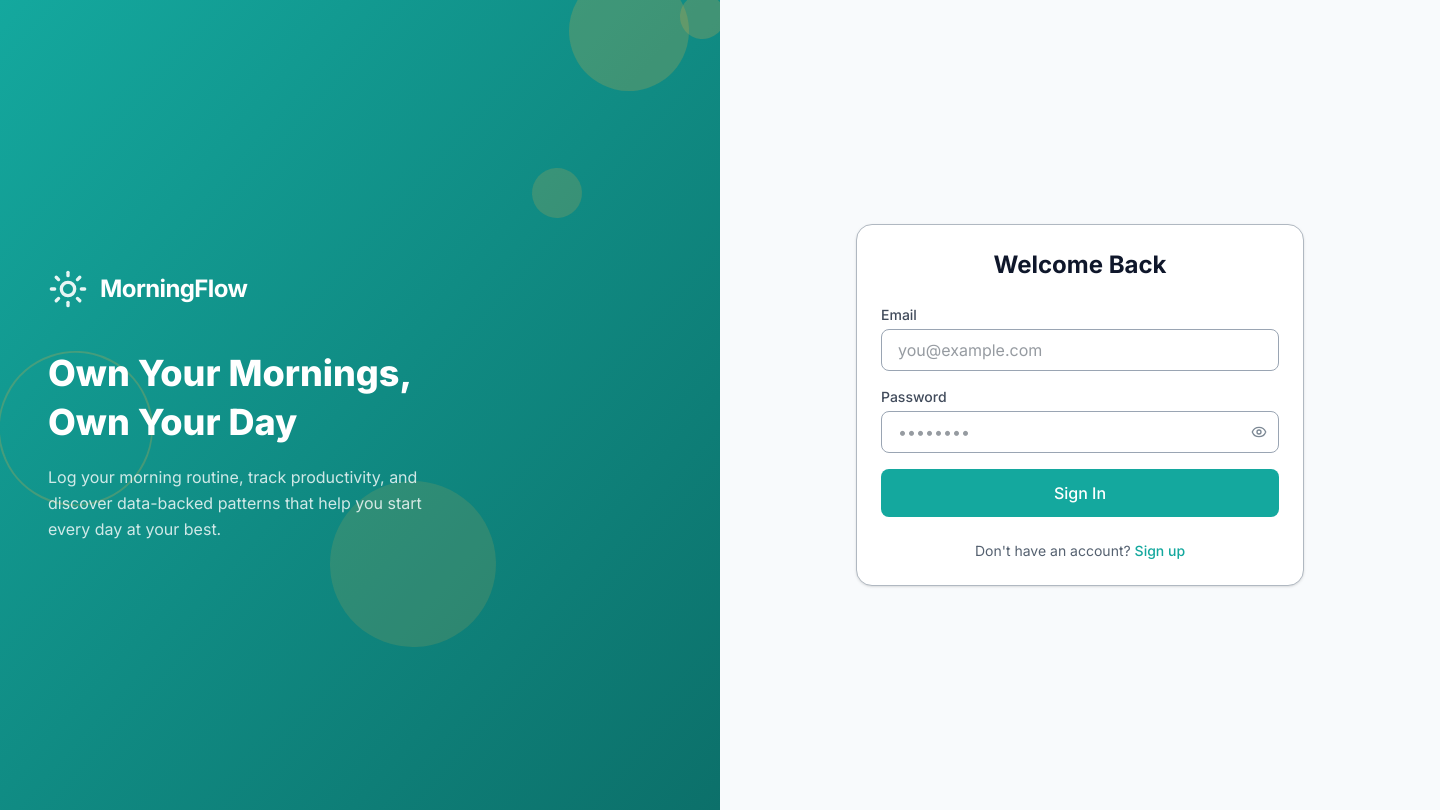
Test: LoginPage — form submission › shows loading text while the request is in flight
Type "me@example.com" into the field labelled "Email".
click(1080, 350); type("me@example.com")  # box x1=881 y1=329 x2=1279 y2=371
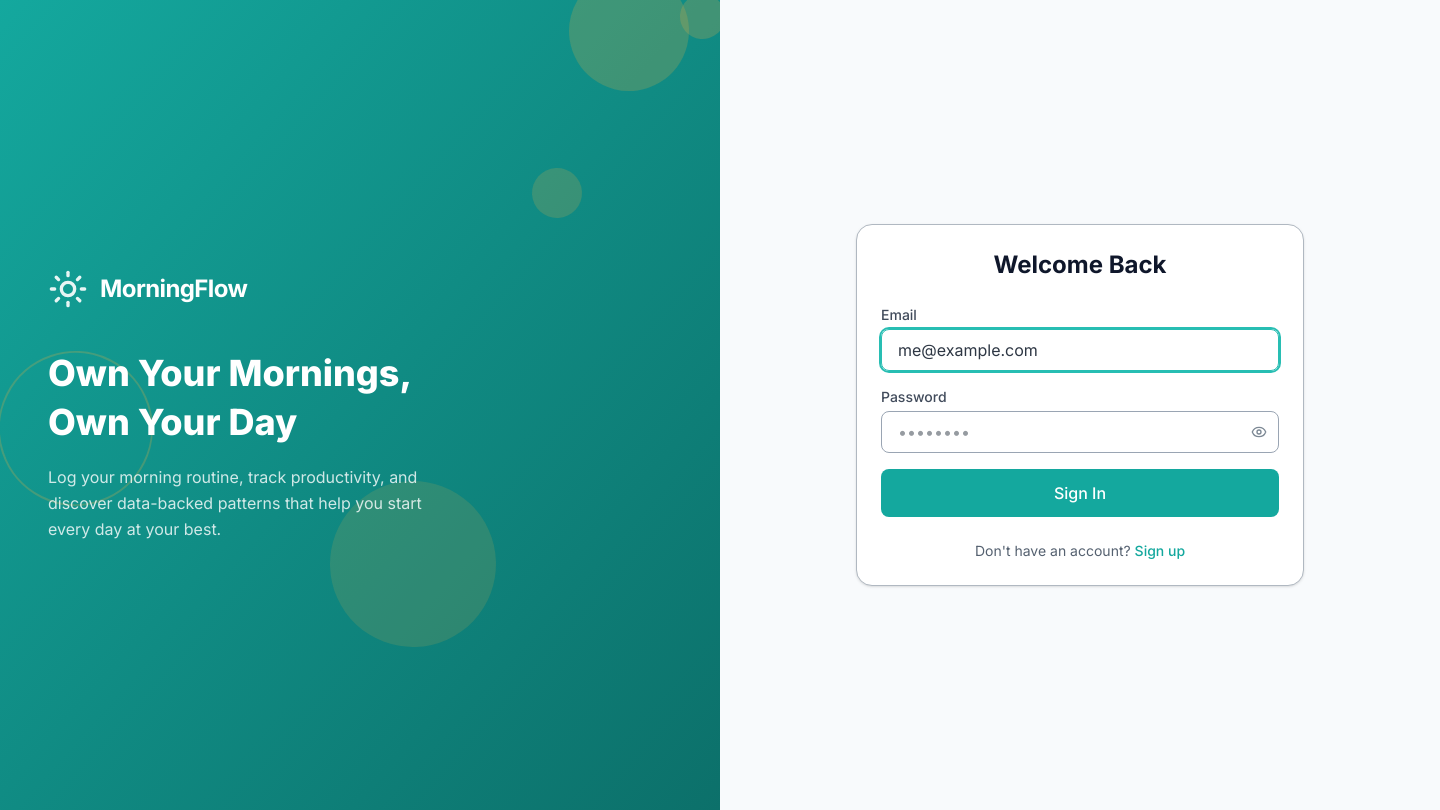
Type "secret123" into the password field labelled "Password".
click(1080, 432); type("secret123")  # box x1=881 y1=411 x2=1279 y2=453
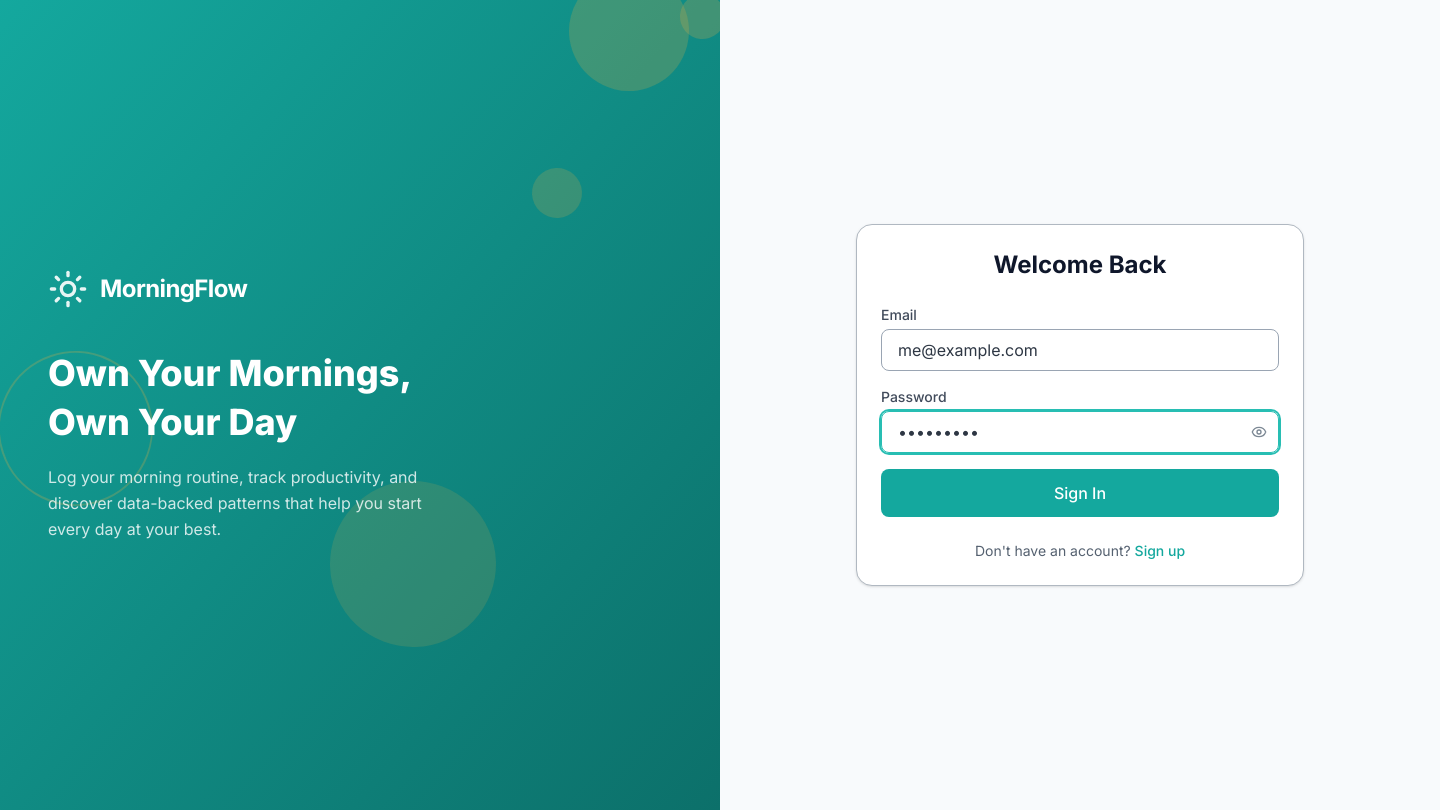
Click the button "Sign In".
click(1080, 493)  # box x1=881 y1=469 x2=1279 y2=517
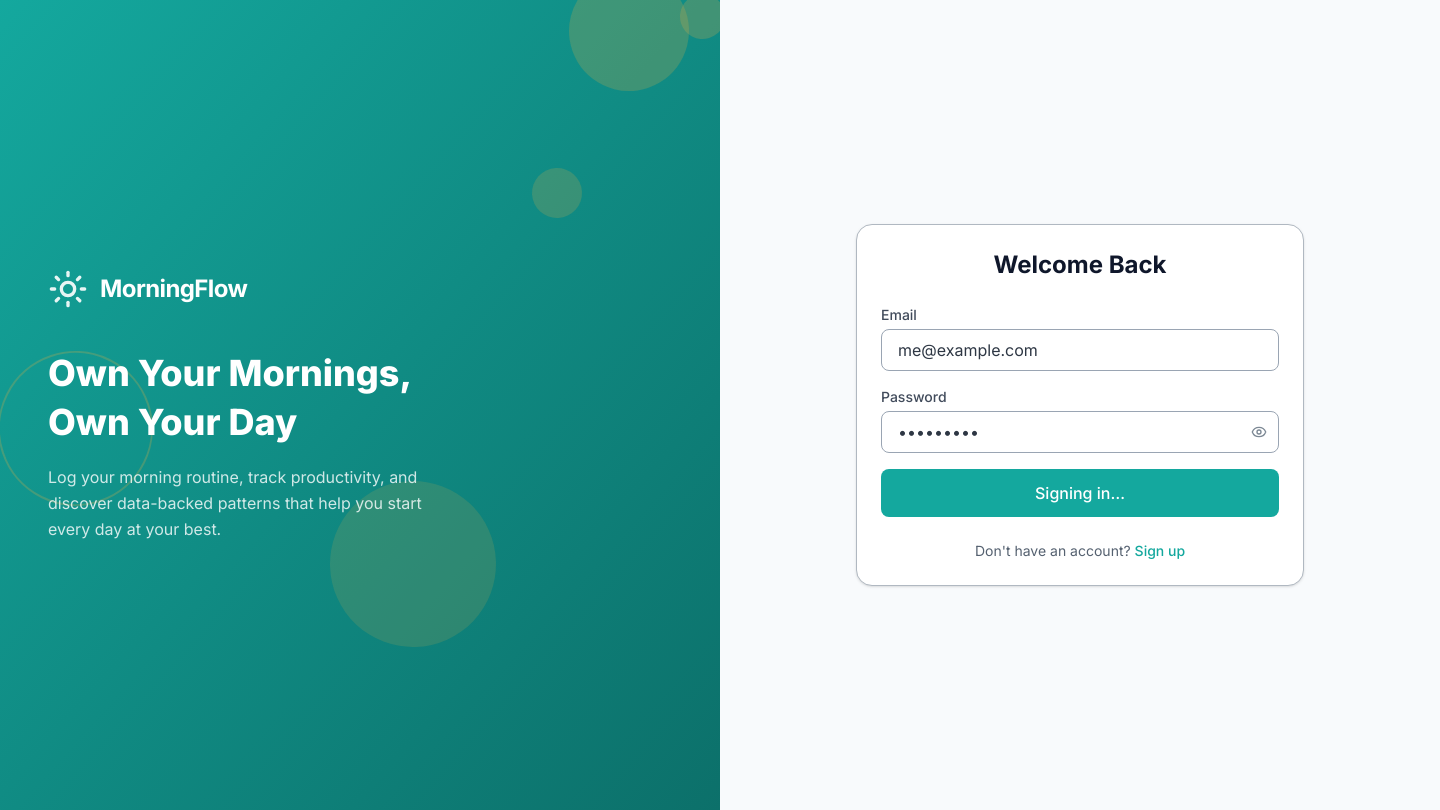
Now the button "Signing in…" is disabled, box x1=881 y1=469 x2=1279 y2=517
